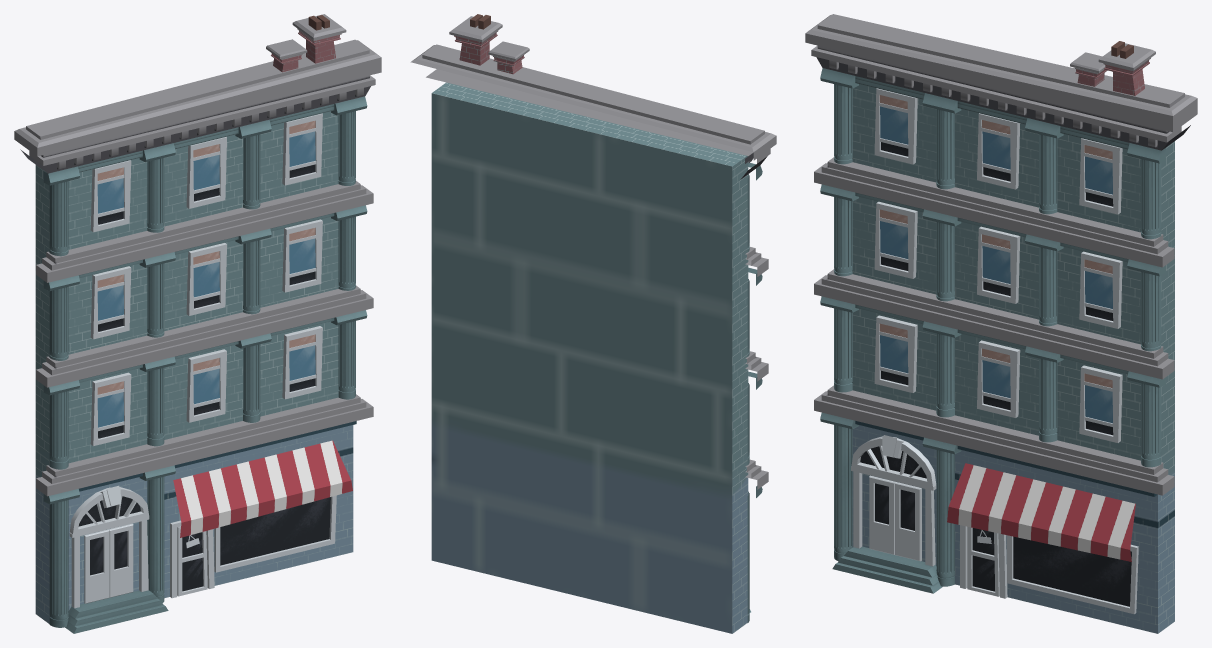
Rendered from street_buildings_5.glb.
The picture shows the model from 3 angles, left to right: view 1: azimuth 30°, elevation 25°; view 2: azimuth 150°, elevation 25°; view 3: azimuth 330°, elevation 25°; orthographic projection. The views are drawn at different scales.
Visible parts, largest first — view 1: Base, Windows, Roof, Crown_03, Crown_01, Crown_02, Shop_Awning, Shop_Window, Pillar_Tall, Stairs, Double_Door_Accent, Pillar_01 (+19 smaller); view 2: Base, Roof, Chimney_Big, Chimney_Small; view 3: Base, Windows, Roof, Crown_03, Crown_01, Crown_02, Shop_Awning, Shop_Window, Pillar_Tall, Stairs, Double_Door_Accent, Pillar_04 (+19 smaller).
Boxes of the visible parts, bbox=[...] form: Base: bbox=[35, 111, 353, 623]; Windows: bbox=[90, 113, 322, 445]; Roof: bbox=[14, 39, 381, 173]; Crown_03: bbox=[36, 394, 373, 496]; Crown_01: bbox=[36, 181, 373, 282]; Crown_02: bbox=[36, 285, 373, 387]; Shop_Awning: bbox=[173, 440, 352, 537]; Shop_Window: bbox=[214, 495, 336, 572]; Pillar_Tall: bbox=[43, 465, 175, 627]; Stairs: bbox=[65, 590, 168, 633]; Double_Door_Accent: bbox=[69, 485, 149, 534]; Pillar_01: bbox=[43, 166, 79, 256]; Base: bbox=[431, 82, 748, 633]; Roof: bbox=[410, 44, 776, 179]; Chimney_Big: bbox=[449, 14, 502, 65]; Chimney_Small: bbox=[488, 41, 529, 74]; Base: bbox=[852, 84, 1174, 633]; Windows: bbox=[874, 88, 1122, 442]; Roof: bbox=[805, 14, 1197, 150]; Crown_03: bbox=[814, 385, 1174, 496]; Crown_01: bbox=[814, 157, 1174, 267]; Crown_02: bbox=[814, 269, 1174, 379]; Shop_Awning: bbox=[947, 463, 1135, 561]; Shop_Window: bbox=[1007, 535, 1138, 614]; Pillar_Tall: bbox=[820, 412, 961, 586]; Stairs: bbox=[832, 546, 942, 593]; Double_Door_Accent: bbox=[851, 435, 936, 486]; Pillar_04: bbox=[1127, 143, 1165, 239].
Bounding box in the file's own units: 2.12 × 3.2 × 0.3055.
Materials: 1 (1 with a texture image).
